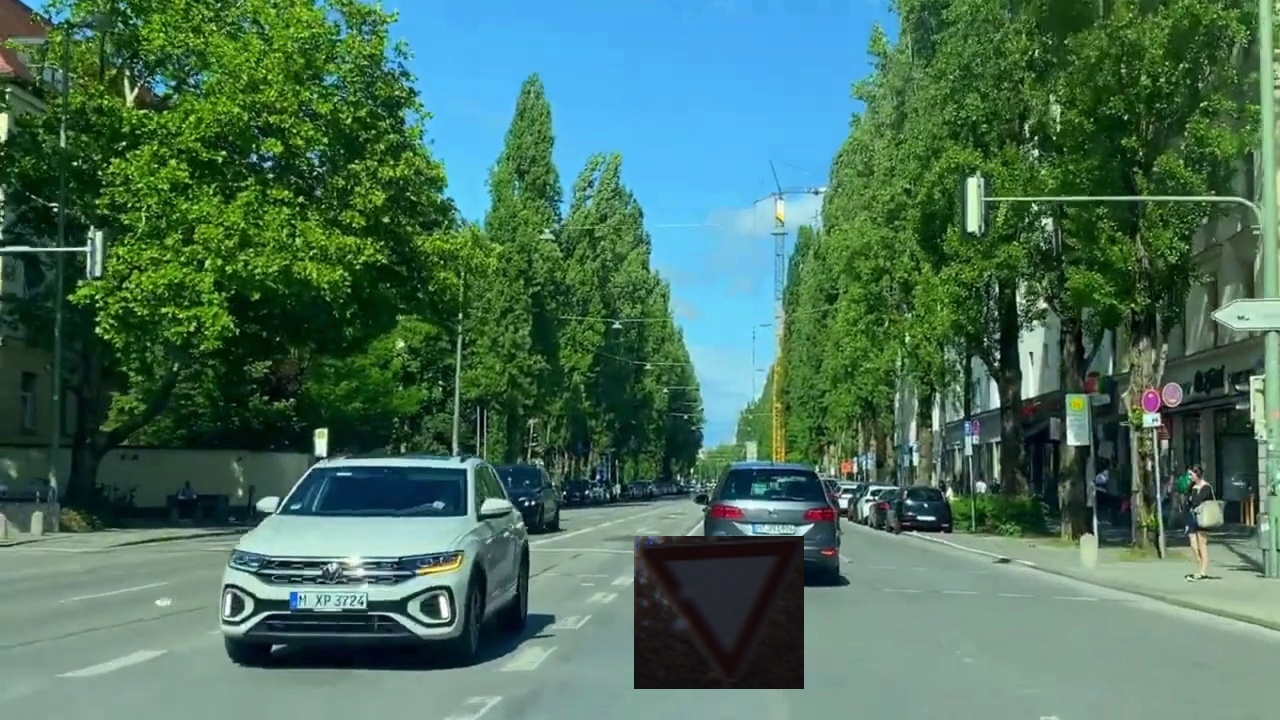Yield: (634, 536, 804, 689)
